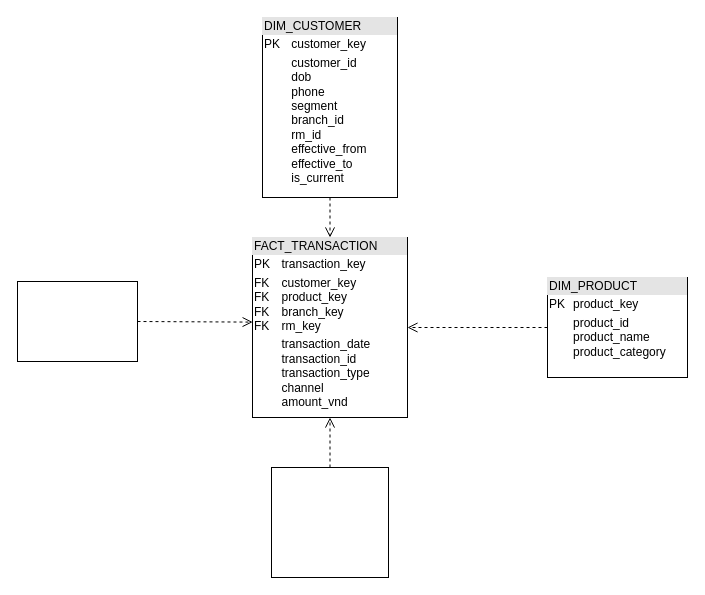
Image size: 705x595. Some labels were removed from this diagram. Each missing label, with the box of its shape:
DIM_BRANCH PK branch_key branch_id branch_name region: (16, 280, 138, 362)
DIM_RM PK rm_key rm_id rm_name branch_id rm_type: (270, 466, 388, 578)
